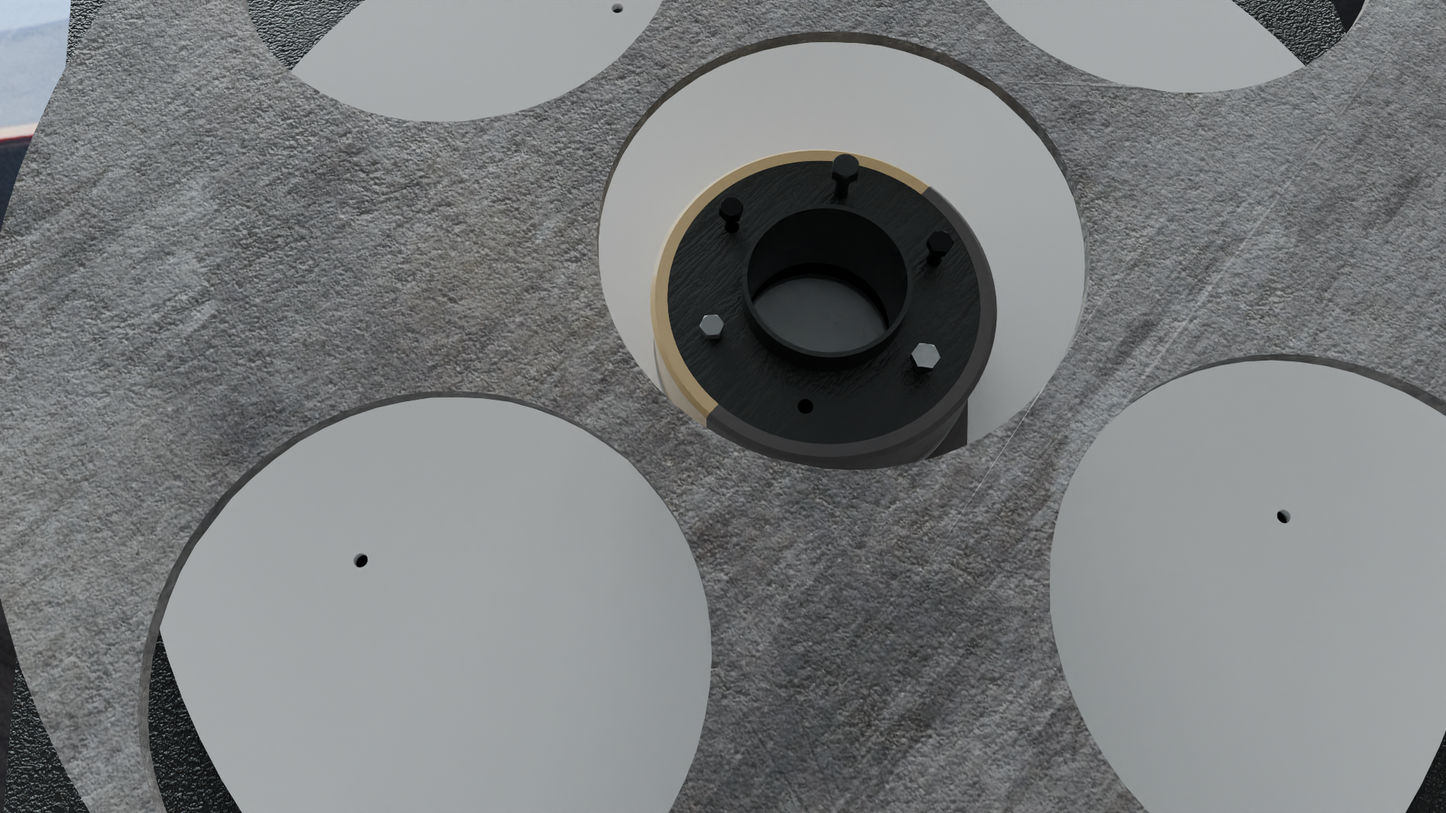bolt: (911, 343, 941, 368), (832, 154, 859, 179), (927, 230, 953, 252), (700, 315, 725, 336), (719, 197, 743, 218)
